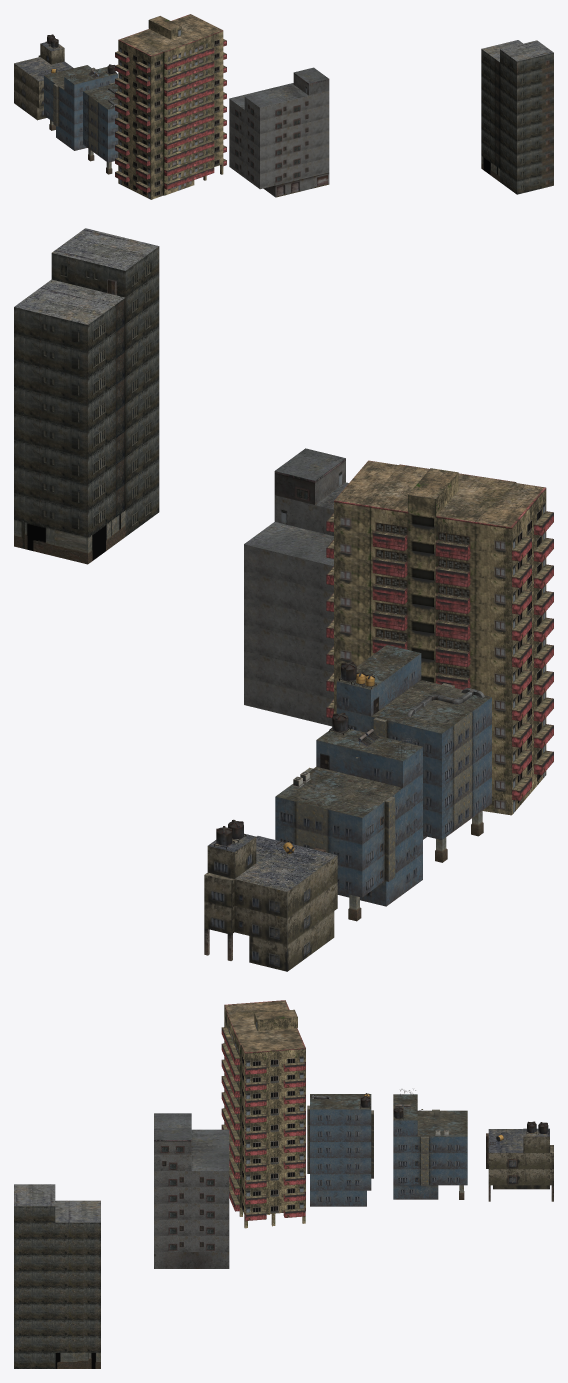
The model's file is BuildingSet_02.FBX.
The picture shows the model from 3 angles, top to bottom: view 1: azimuth 30°, elevation 25°; view 2: azimuth 150°, elevation 25°; view 3: azimuth 270°, elevation 25°; orthographic projection. The views are drawn at different scales.
Visible parts, largest first — view 1: BuildingSet_02; view 2: BuildingSet_02; view 3: BuildingSet_02.
Part boxes in pixels (x1,y1,x2,y2): BuildingSet_02: [14, 14, 553, 199]; BuildingSet_02: [14, 228, 553, 971]; BuildingSet_02: [14, 1000, 553, 1368].
Size of the model in its own units: 13198 by 5877 by 15399.
1 material, 1 textured.
